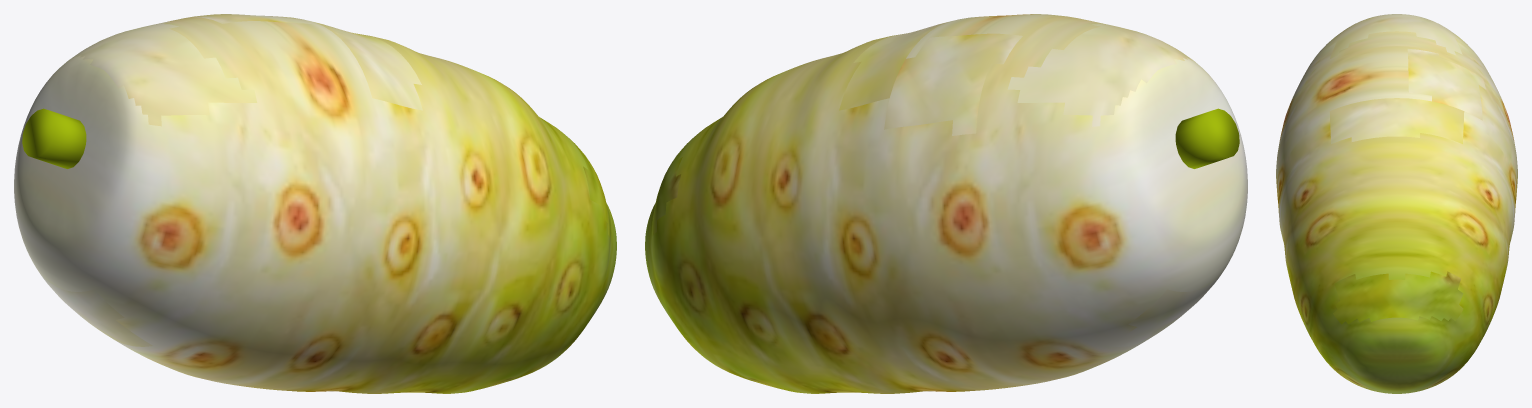
Rendered from mengkudu.glb.
3 renders of one model, left to right at view 1: azimuth 30°, elevation 25°; view 2: azimuth 150°, elevation 25°; view 3: azimuth 270°, elevation 25°, orthographic. The views are drawn at different scales.
Visible parts, largest first — view 1: Cylinder, Cylinder.001; view 2: Cylinder, Cylinder.001; view 3: Cylinder.
Boxes of the visible parts, x1,y1,x2,y2 form: Cylinder: (14,14,616,393); Cylinder.001: (22,108,86,168); Cylinder: (645,14,1247,393); Cylinder.001: (1175,108,1239,168); Cylinder: (1276,14,1517,393).
Bounding box in the file's own units: 0.3188 × 0.2164 × 0.18.
2 materials, 1 textured.
